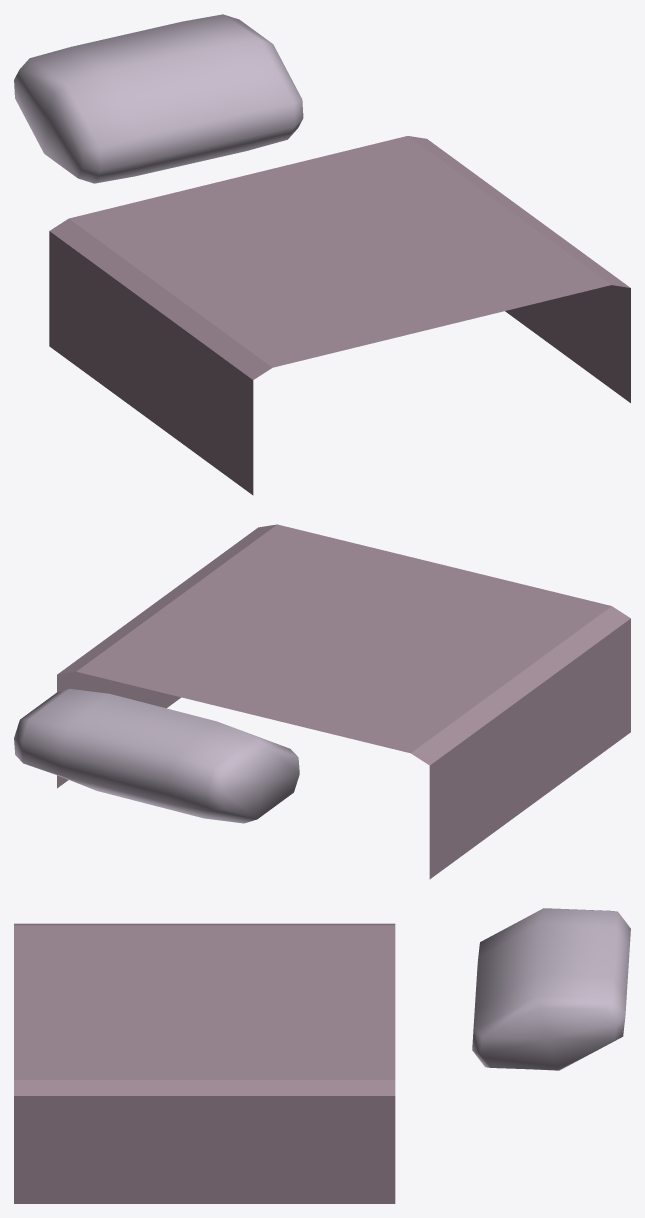
The model's file is quilt,pillow.fbx.
3 views of the same model, one above another, from view 1: azimuth 30°, elevation 25°; view 2: azimuth 150°, elevation 25°; view 3: azimuth 270°, elevation 25° (orthographic). The views are drawn at different scales.
Parts seen in each view (by area): view 1: quilt,pillow; view 2: quilt,pillow; view 3: quilt,pillow.
Boxes of the visible parts, x1,y1,x2,y2 form: quilt,pillow: [14, 14, 630, 495]; quilt,pillow: [14, 524, 630, 879]; quilt,pillow: [14, 908, 630, 1203].
Size of the model in its own units: 131 by 61.01 by 198.
